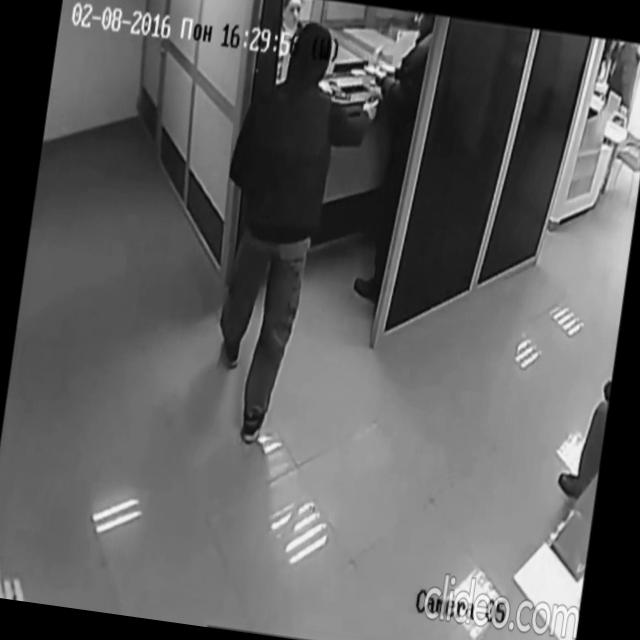gun: (366, 91, 384, 108)
person with a gun: (189, 10, 393, 460)
